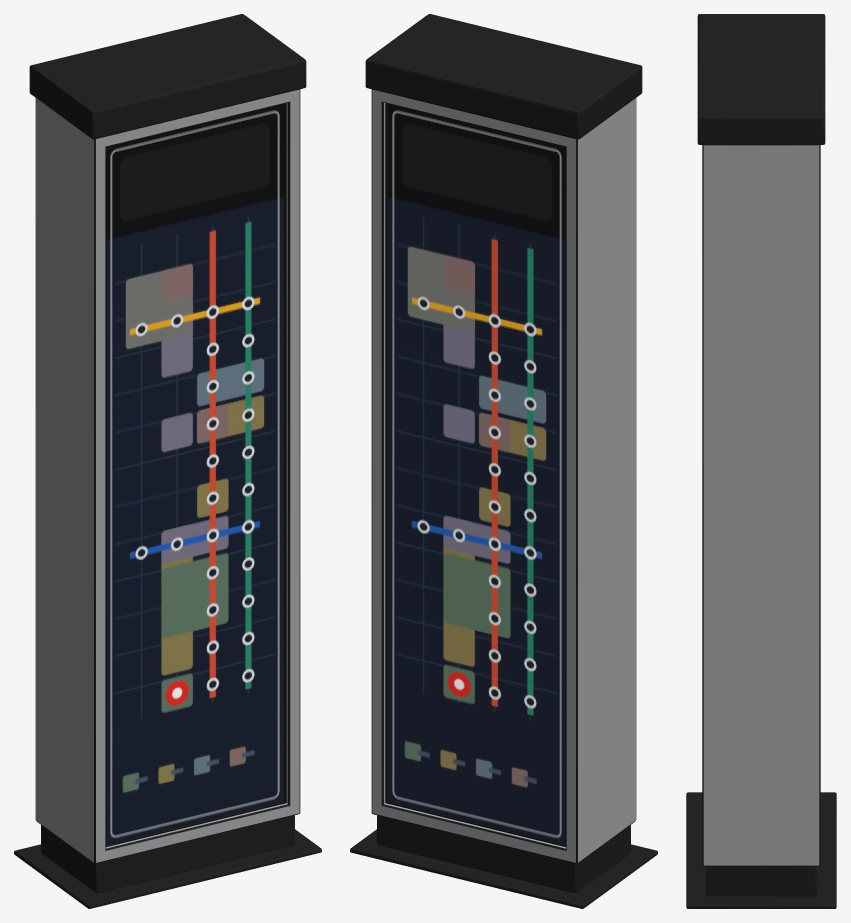
The model's file is gteki_sign_totem_dark.glb.
The picture shows the model from 3 angles, left to right: view 1: azimuth 30°, elevation 25°; view 2: azimuth 150°, elevation 25°; view 3: azimuth 270°, elevation 25°; orthographic projection.
Visible parts, largest first — view 1: VIS_faces, VIS_frame, VIS_base; view 2: VIS_faces, VIS_frame, VIS_base; view 3: VIS_frame, VIS_base.
Part boxes in pixels (box(x1,y1,x2,y2)): VIS_faces: box(106, 104, 283, 844); VIS_frame: box(29, 14, 306, 863); VIS_base: box(14, 815, 321, 908); VIS_faces: box(388, 104, 565, 844); VIS_frame: box(365, 14, 642, 863); VIS_base: box(350, 815, 657, 908); VIS_frame: box(697, 14, 825, 866); VIS_base: box(686, 792, 836, 908).
Size of what is drawn, in the model's own units: 0.68 by 2.2 by 0.38.
4 materials, 1 textured.
